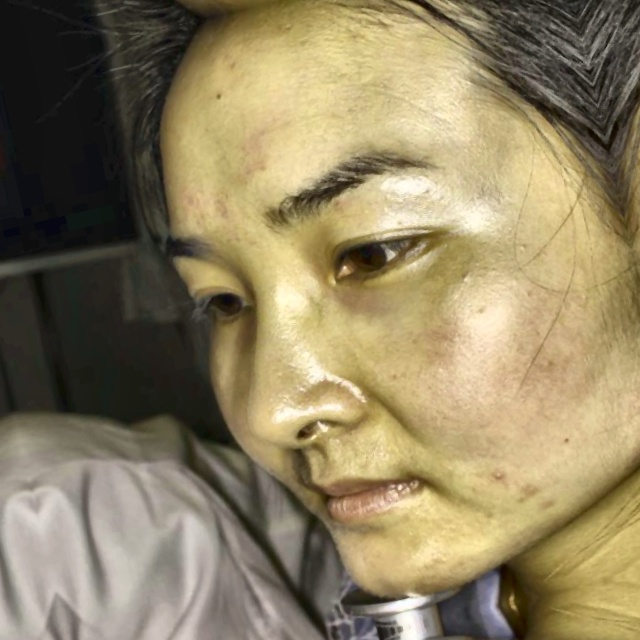comedone: (507, 476, 543, 511), (480, 463, 517, 493), (534, 491, 556, 515)
